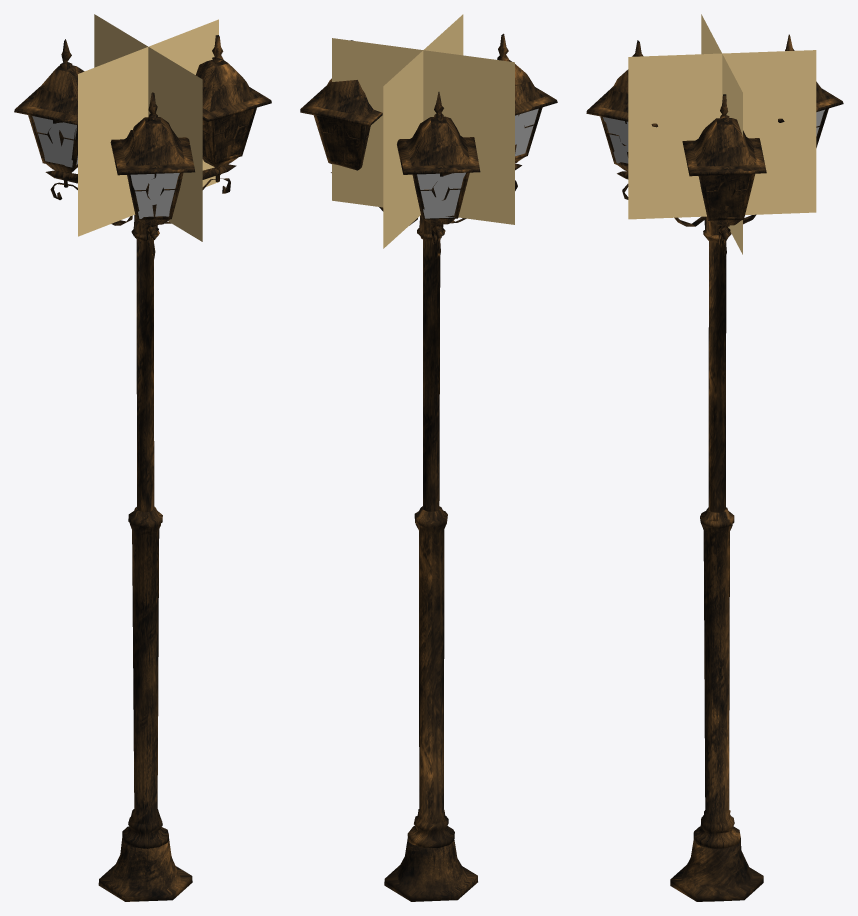
Rendered from Lu deng.obj.
3 renders of one model, left to right at view 1: azimuth 30°, elevation 25°; view 2: azimuth 150°, elevation 25°; view 3: azimuth 270°, elevation 25°, orthographic.
Visible parts, largest first — view 1: AM107_069_stand11, Plane9392, Plane9397, AM107_069_metal38, AM107_069_metal37, AM107_069_metal39, AM107_069_glass_41, AM107_069_glass_40, AM107_069_glass_42; view 2: AM107_069_stand11, Plane9392, Plane9397, AM107_069_metal39, AM107_069_metal37, AM107_069_metal38, AM107_069_glass_42, AM107_069_glass_40, AM107_069_glass_41; view 3: Plane9397, AM107_069_stand11, AM107_069_metal37, AM107_069_metal38, Plane9392, AM107_069_glass_40, AM107_069_glass_41, AM107_069_metal39.
Part boxes in pixels (x1,y1,x2,y2): AM107_069_stand11: (98, 215, 192, 901); Plane9392: (78, 19, 218, 236); Plane9397: (94, 14, 202, 241); AM107_069_metal38: (110, 92, 194, 258); AM107_069_metal37: (156, 35, 271, 226); AM107_069_metal39: (14, 39, 134, 229); AM107_069_glass_41: (130, 173, 179, 218); AM107_069_glass_40: (202, 108, 254, 161); AM107_069_glass_42: (32, 116, 77, 167); AM107_069_stand11: (384, 215, 477, 901); Plane9392: (332, 38, 514, 224); Plane9397: (383, 14, 463, 248); AM107_069_metal39: (397, 92, 480, 258); AM107_069_metal37: (300, 40, 420, 228); AM107_069_metal38: (442, 33, 557, 227); AM107_069_glass_42: (417, 172, 465, 218); AM107_069_glass_40: (317, 116, 370, 166); AM107_069_glass_41: (515, 108, 538, 156); Plane9397: (628, 50, 816, 219); AM107_069_stand11: (670, 216, 763, 901); AM107_069_metal37: (682, 94, 766, 259); AM107_069_metal38: (586, 40, 706, 230); Plane9392: (701, 14, 742, 254); AM107_069_glass_40: (702, 174, 751, 219); AM107_069_glass_41: (603, 117, 628, 163); AM107_069_metal39: (743, 34, 843, 224).
Size of the model in its own units: 0.9305 by 3.66 by 1.02.
7 materials, 5 textured.
